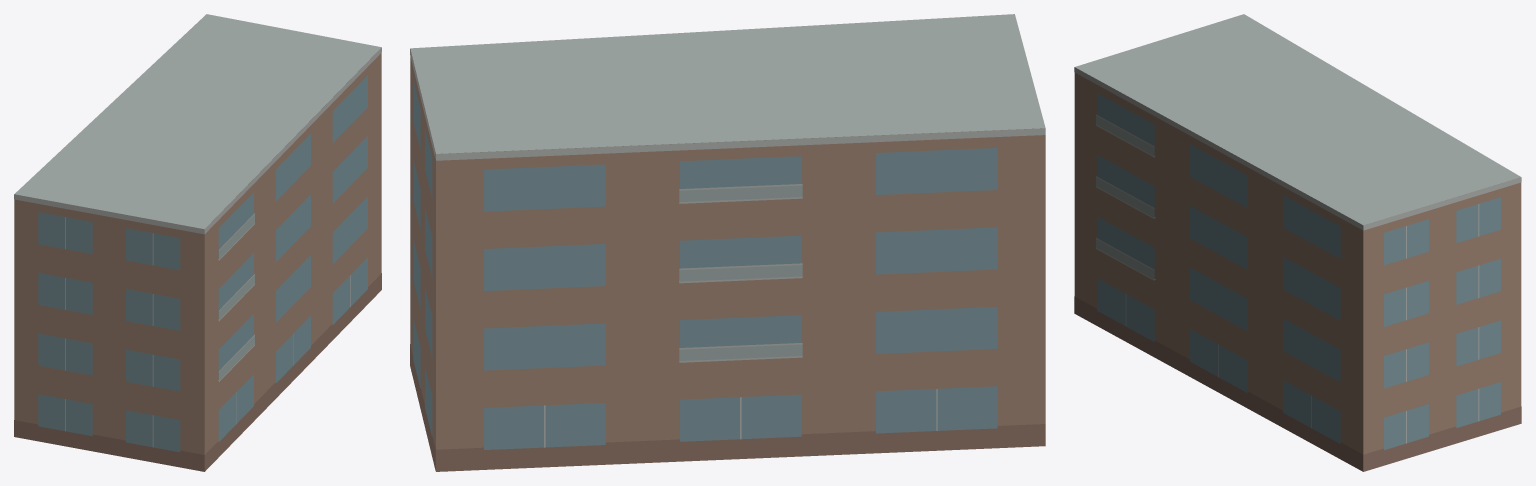
File: survey-upis-32848926.glb
3 views of the same model, side by side, from view 1: azimuth 30°, elevation 25°; view 2: azimuth 150°, elevation 25°; view 3: azimuth 270°, elevation 25° (orthographic). The views are drawn at different scales.
Parts seen in each view (by area): view 1: survey-upis-32848926.tmp; view 2: survey-upis-32848926.tmp; view 3: survey-upis-32848926.tmp.
Boxes of the visible parts, x1,y1,x2,y2 form: survey-upis-32848926.tmp: (14,14,381,471); survey-upis-32848926.tmp: (410,14,1045,471); survey-upis-32848926.tmp: (1074,14,1521,471).
Bounding box in the file's own units: 20.97 × 11.4 × 18.74.
